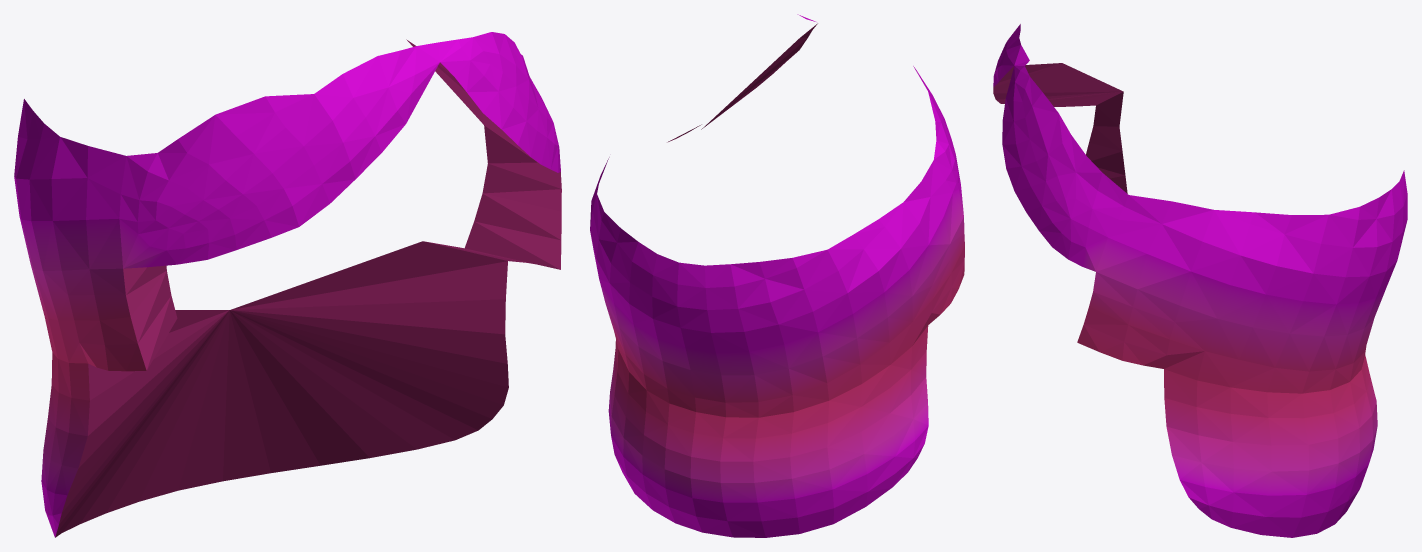
3 views of the same model, side by side, from view 1: azimuth 30°, elevation 25°; view 2: azimuth 150°, elevation 25°; view 3: azimuth 270°, elevation 25° (orthographic). The views are drawn at different scales.
Visible parts, largest first — view 1: shape; view 2: shape; view 3: shape.
Part boxes in pixels (<box>): shape: <box>14,32,561,537</box>; shape: <box>590,14,964,537</box>; shape: <box>993,24,1407,537</box>.
Bounding box in the file's own units: 59.09 × 73.53 × 59.69.
